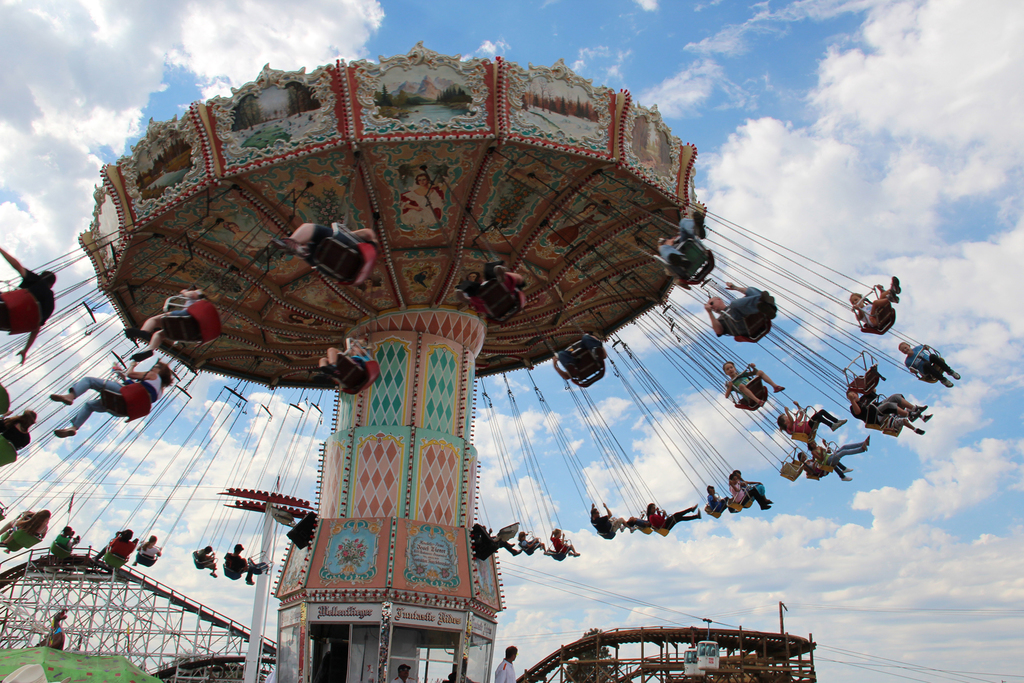person: (700, 282, 778, 343)
